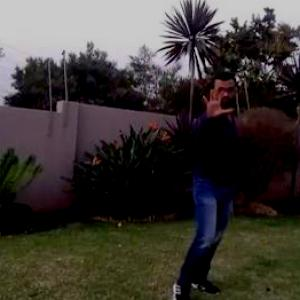follow_hand: (199, 82, 237, 122)
